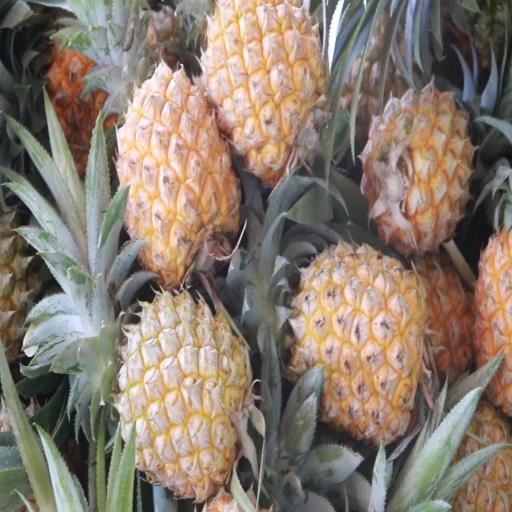Pineapple - v8 v1: (118, 291, 250, 493), (116, 70, 241, 282), (293, 238, 424, 436), (202, 0, 328, 173), (366, 86, 473, 250)
